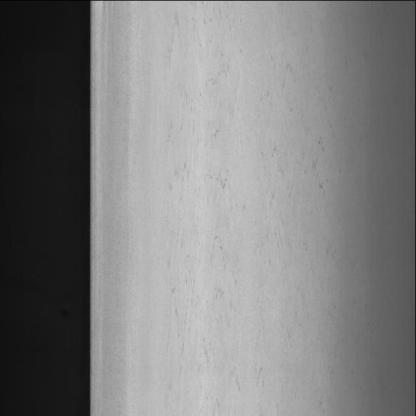silk_spot: (154, 7, 341, 408)
